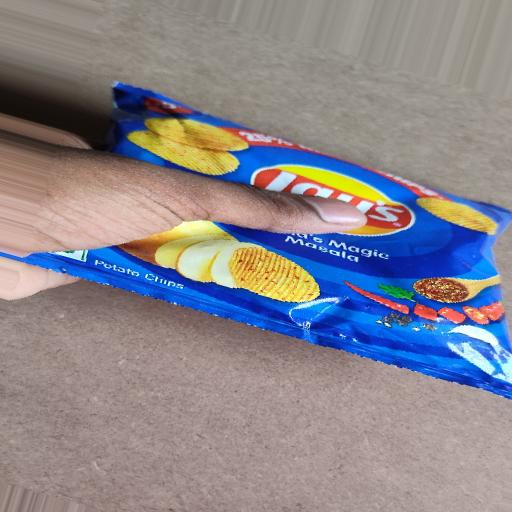Lays Blue (India Masala magic): (10, 57, 512, 418)
